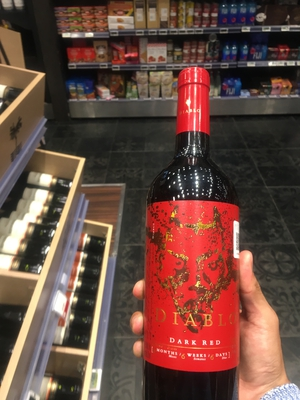diablo dark red: (137, 61, 247, 400)
